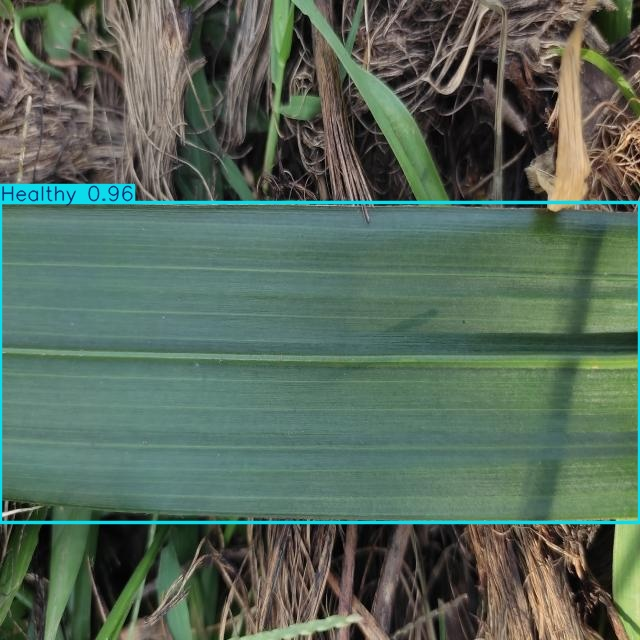Healthy: (0, 203, 640, 523)
